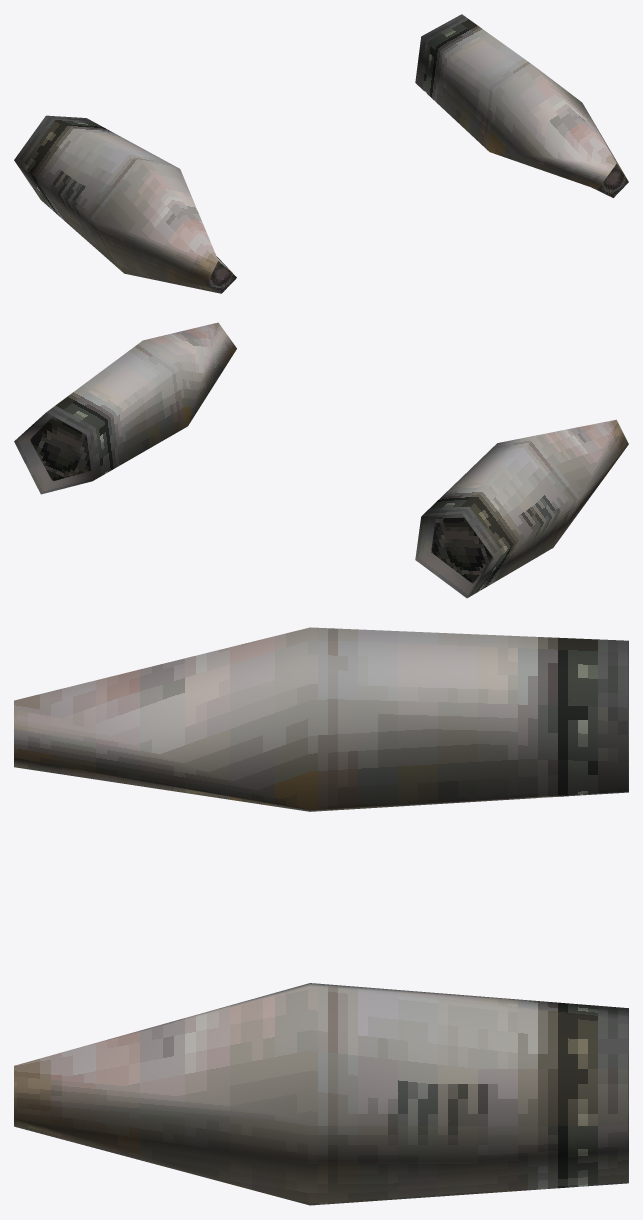
The model's file is hutt_fighter_light_booster_s01_l2.fbx.
3 views of the same model, one above another, from view 1: azimuth 30°, elevation 25°; view 2: azimuth 150°, elevation 25°; view 3: azimuth 270°, elevation 25° (orthographic). The views are drawn at different scales.
Parts seen in each view (by area): view 1: mesh_node; view 2: mesh_node; view 3: mesh_node.
Boxes of the visible parts, x1,y1,x2,y2 form: mesh_node: [14, 14, 628, 293]; mesh_node: [14, 322, 628, 598]; mesh_node: [14, 627, 628, 1205].
Bounding box in the file's own units: 3.69 × 0.7771 × 2.15.
1 material, 1 textured.
